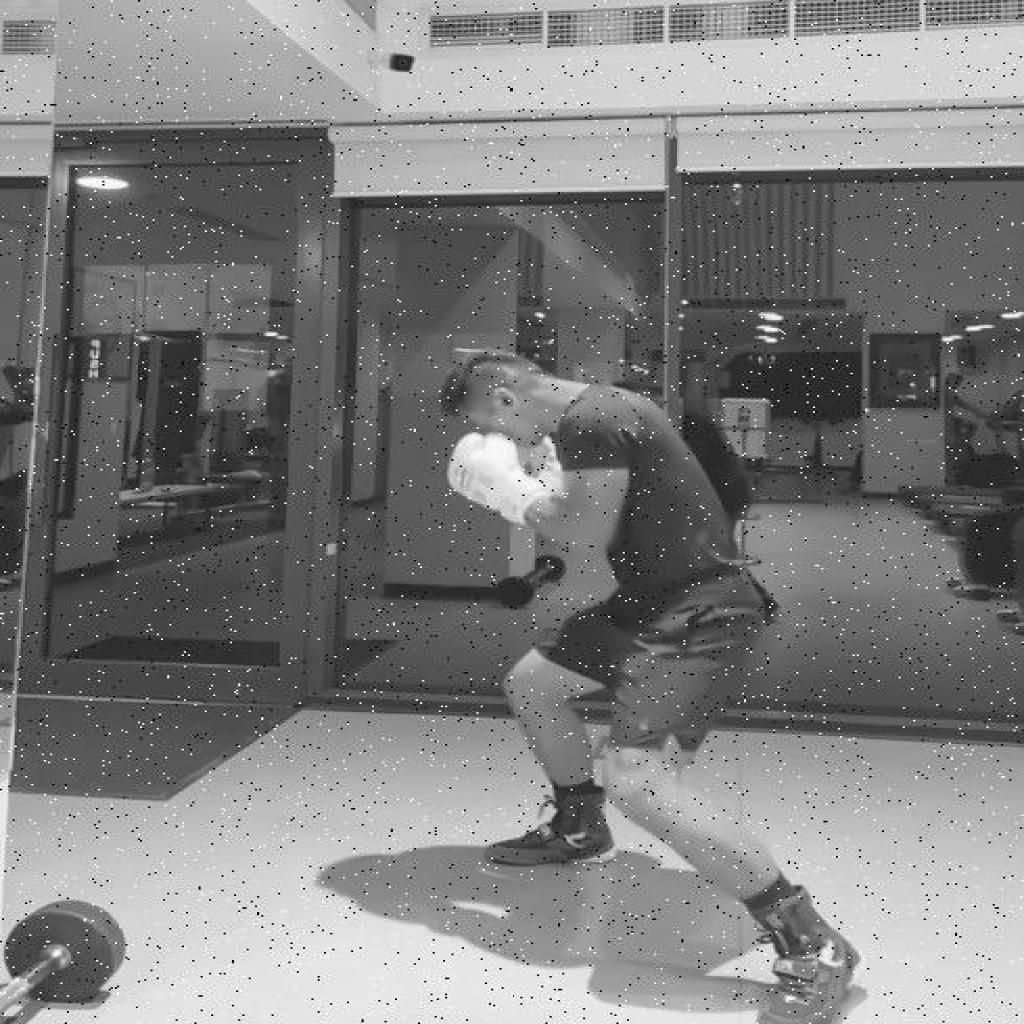no punch: (436, 345, 863, 1024)
